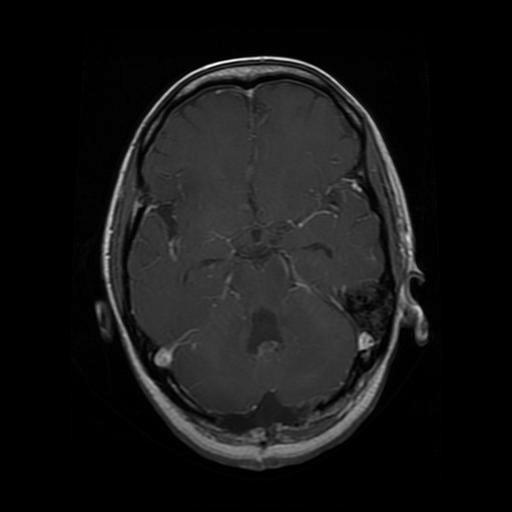Tumour-Glioma: (331, 286, 397, 340)
